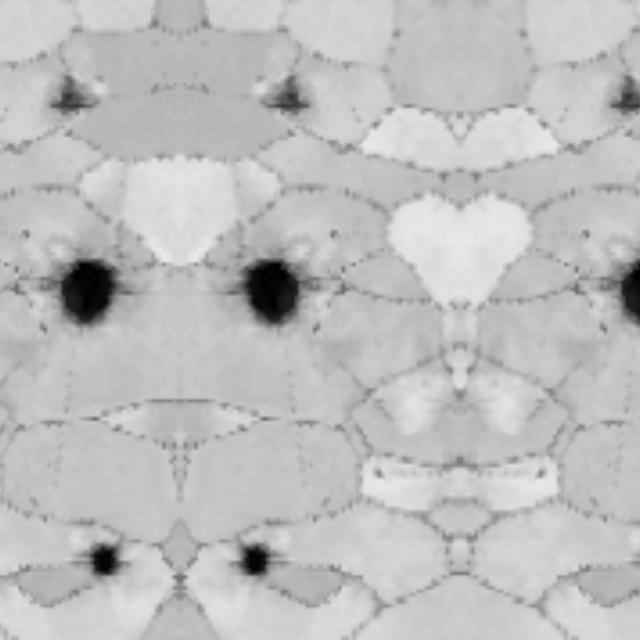good_void: (234, 248, 327, 332), (34, 248, 127, 332), (249, 67, 323, 130), (38, 67, 112, 130), (226, 528, 293, 586), (68, 528, 135, 586), (595, 248, 640, 329), (599, 67, 640, 130), (312, 216, 350, 248), (572, 216, 610, 248), (11, 216, 49, 248), (369, 459, 391, 485), (531, 459, 553, 485), (305, 318, 329, 340), (593, 318, 617, 340), (32, 318, 56, 340)
